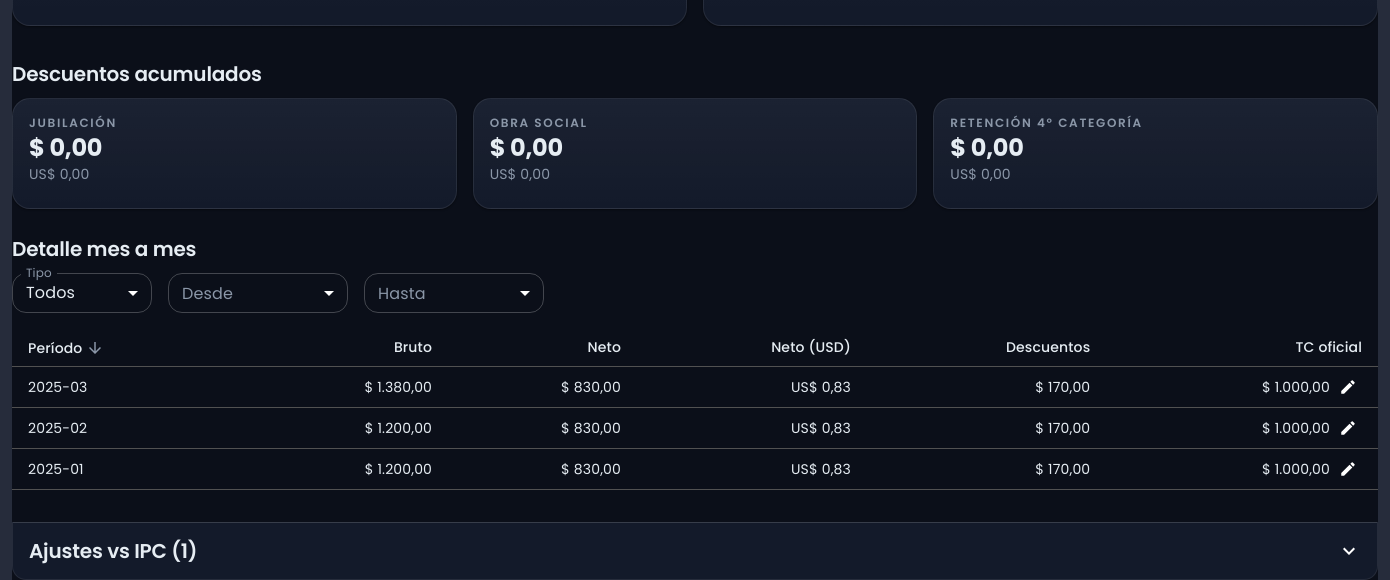
PayslipsPage ajustes por IPC › la sección arranca cerrada y al abrirla lista solo los meses con ajuste
(page scrolled)
Click the button "Ajustes vs IPC (1)".
click(105, 551)  # box [13, 523, 1377, 579]
(page scrolled)
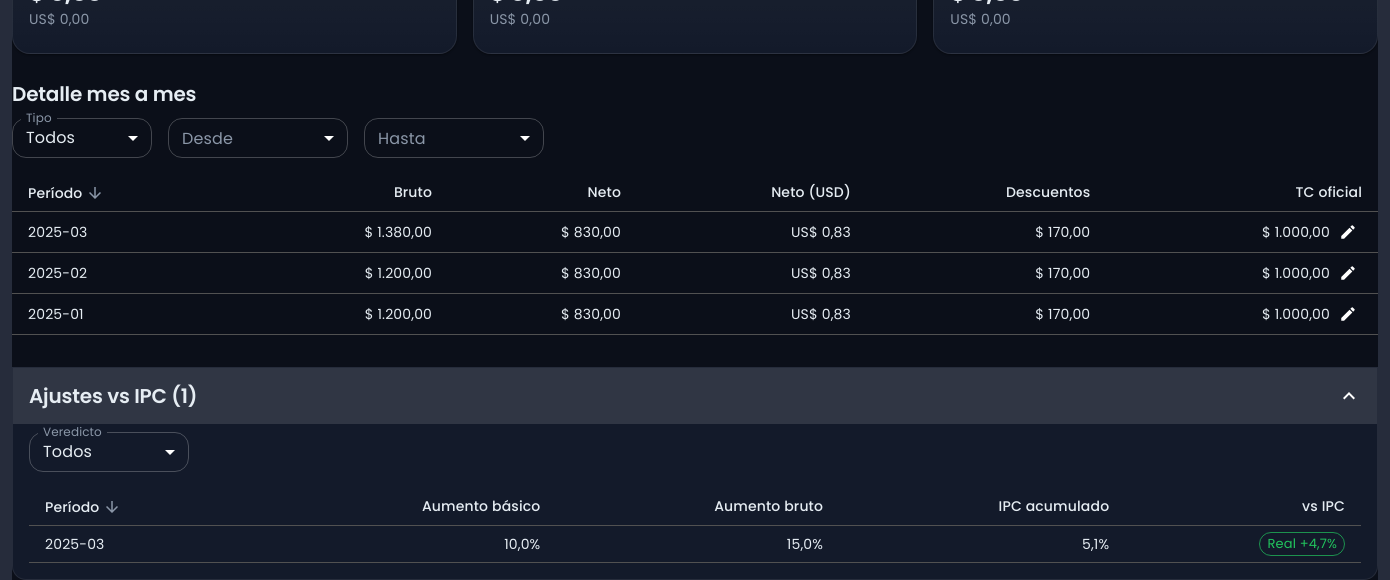
Now the text "10,0%" is shown, box [254, 525, 556, 562]
Now the text "15,0%" is shown, box [556, 525, 839, 562]
Now the text titled "IPC de 2025-01 a 2025-02" reads "5,1%", box [1082, 534, 1109, 554]
